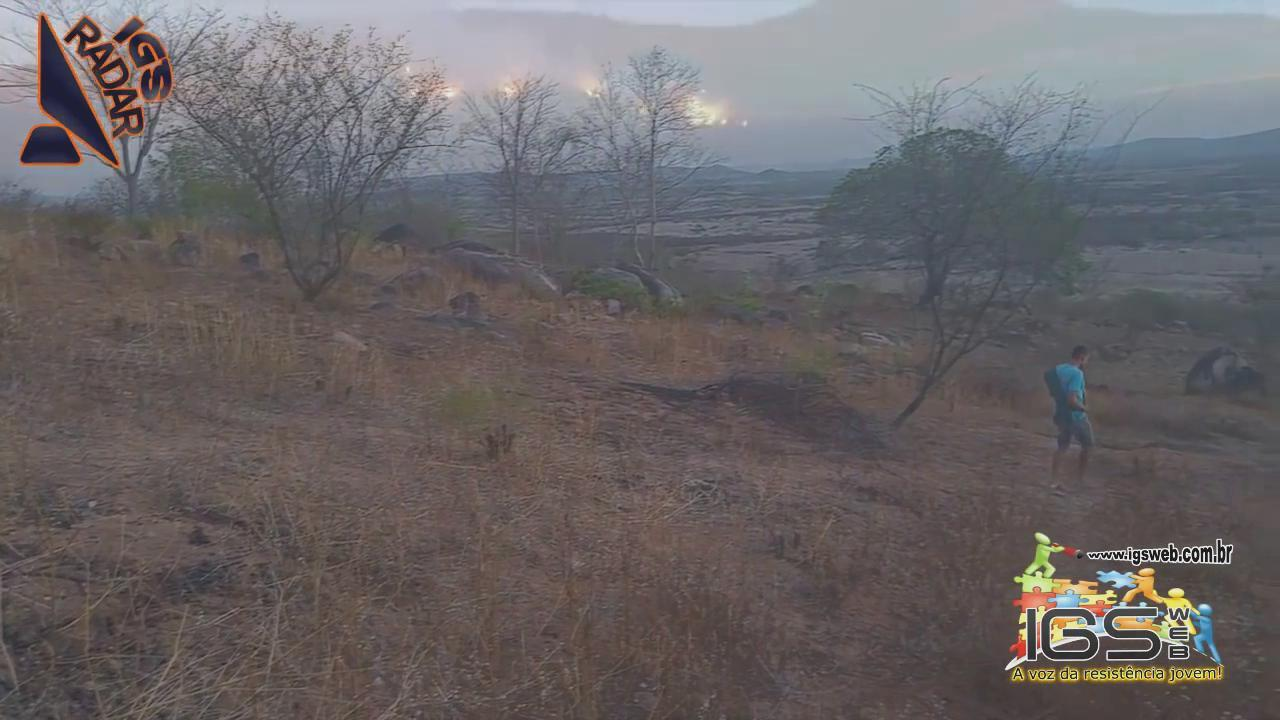fire: (681, 97, 732, 126), (500, 69, 530, 94), (579, 71, 601, 97), (436, 82, 461, 99)
